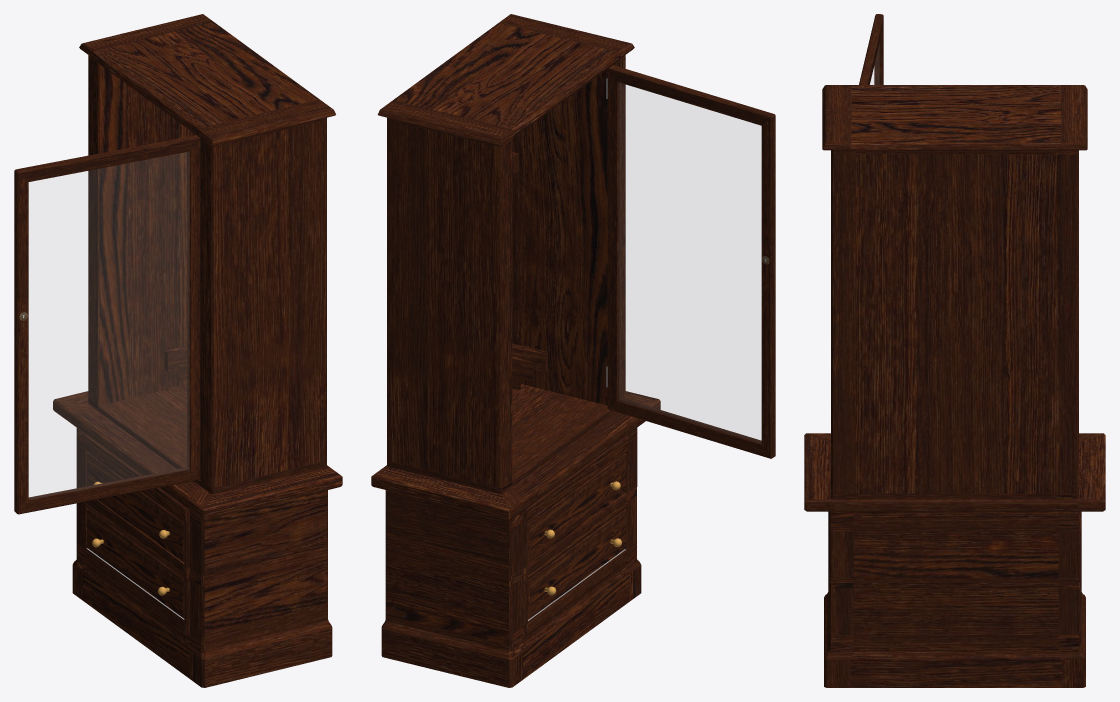
The model's file is old_gun_cabinet_with_animations.glb.
3 renders of one model, left to right at view 1: azimuth 30°, elevation 25°; view 2: azimuth 150°, elevation 25°; view 3: azimuth 270°, elevation 25°, orthographic.
Parts seen in each view (by area): view 1: Cabinet, MainCabinetDoor, Drawer02, Drawer01; view 2: Cabinet, MainCabinetDoor, Drawer01, Drawer02; view 3: Cabinet, MainCabinetDoor.
Part boxes in pixels (box(x1,y1,x2,y2)): Cabinet: box(53, 14, 342, 687); MainCabinetDoor: box(14, 135, 200, 514); Drawer02: box(87, 508, 184, 618); Drawer01: box(87, 452, 184, 562); Cabinet: box(371, 14, 660, 687); MainCabinetDoor: box(607, 65, 775, 458); Drawer01: box(528, 453, 625, 563); Drawer02: box(528, 509, 625, 619); Cabinet: box(804, 85, 1105, 687); MainCabinetDoor: box(859, 14, 883, 84).
Size of the model in its own units: 1.18 by 2.11 by 1.06.
Materials: 5 (4 with a texture image).
